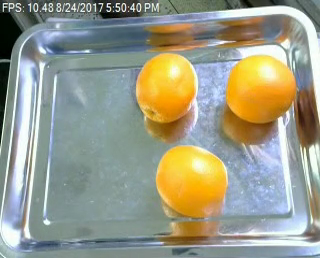Orange: (156, 144, 228, 216), (226, 53, 296, 120), (136, 52, 198, 122)
